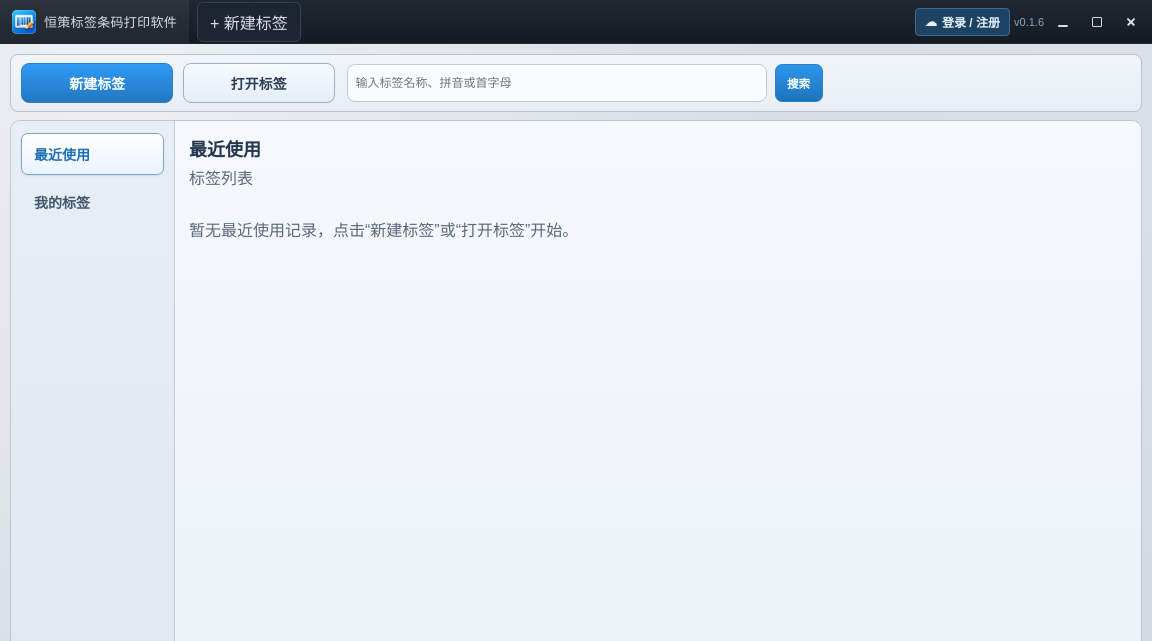
Test: App shell › uses software-level default printer in print modal instead of per-tab printer
Click the button with class "new-tab" at (249, 22), box 197,2 -> 301,42
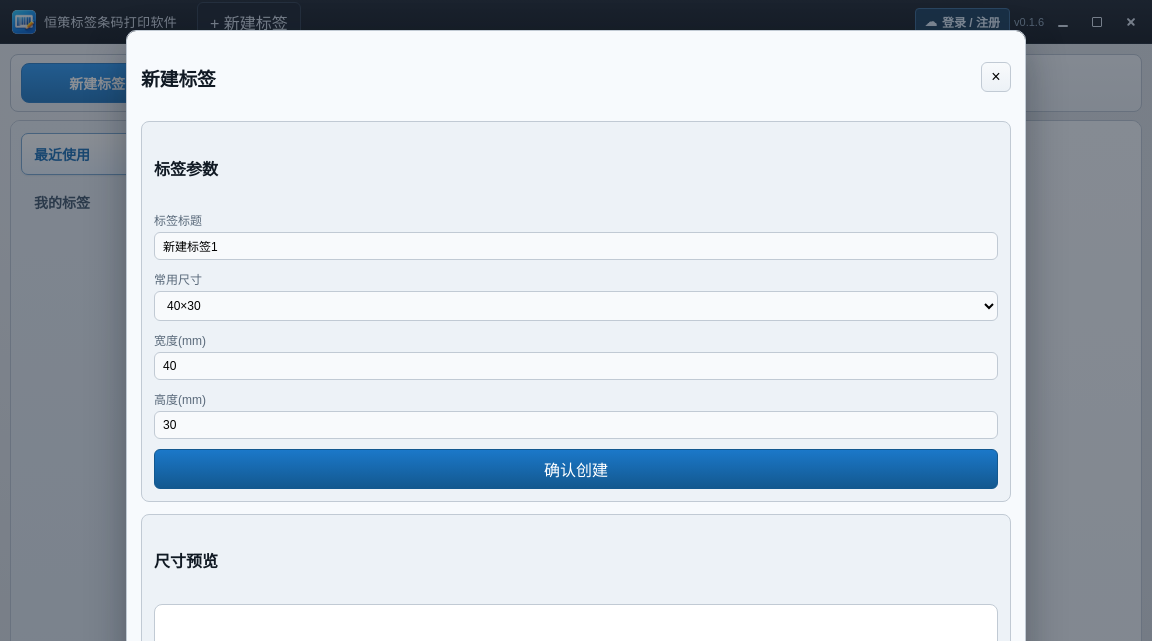
Check: the button "确认创建" is shown
Click the button "确认创建" at (576, 469), box 154,449 -> 998,489
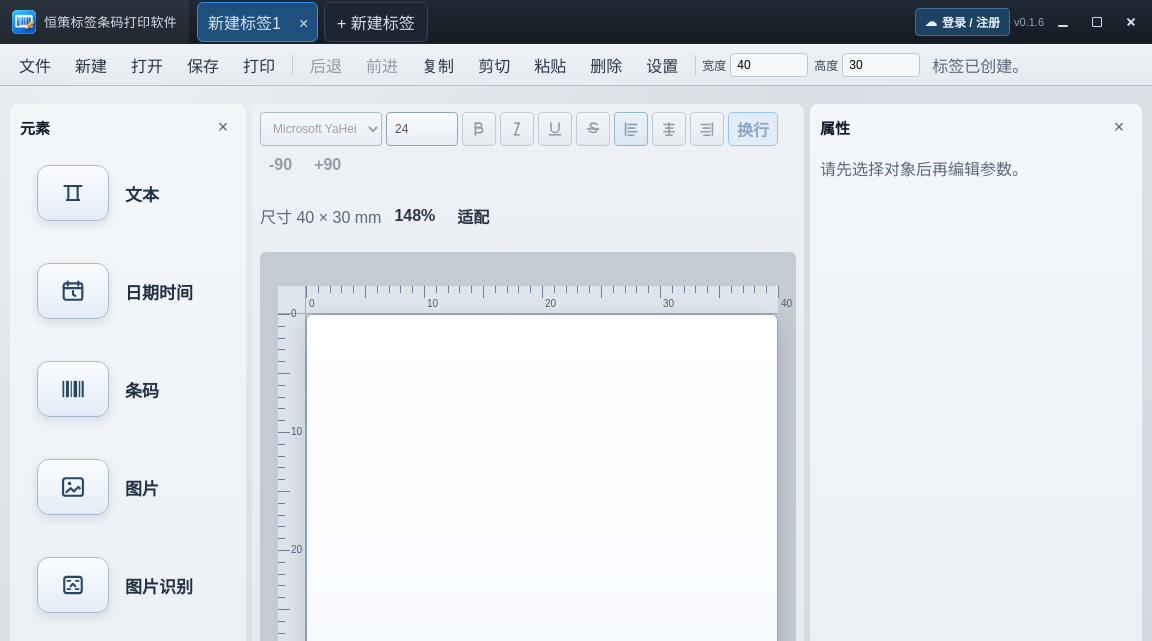
Press p
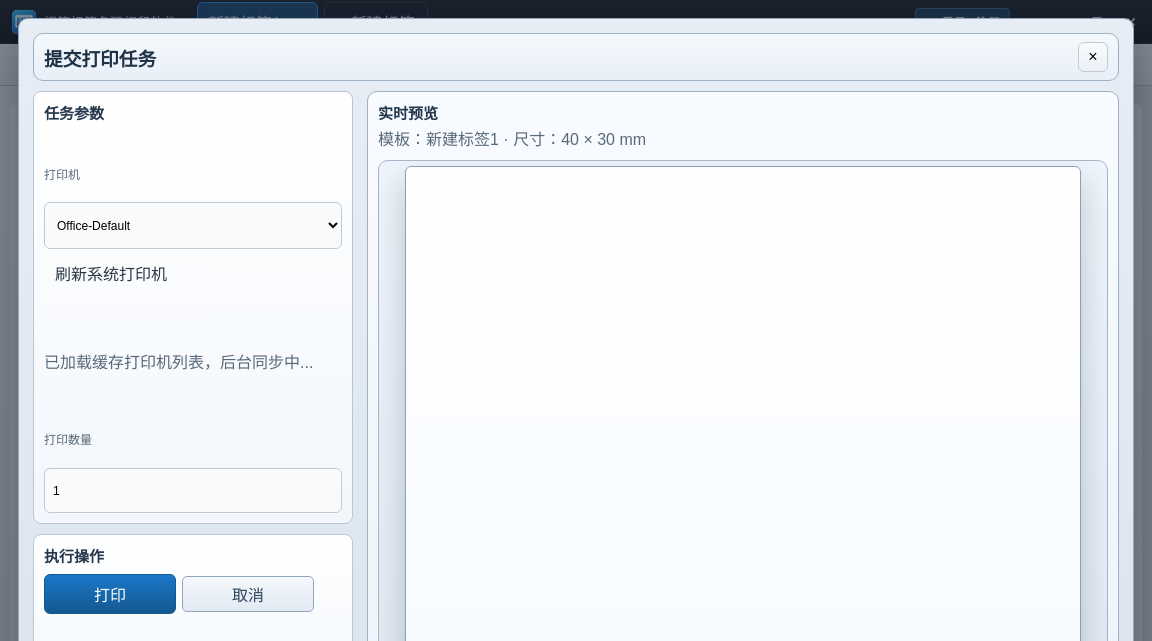
Check: the dropdown labelled "打印机" shows "Office-Default", box 44,202 -> 342,249
Check: the button "取消" is shown
Click the button "取消" at (248, 594), box 182,576 -> 314,612
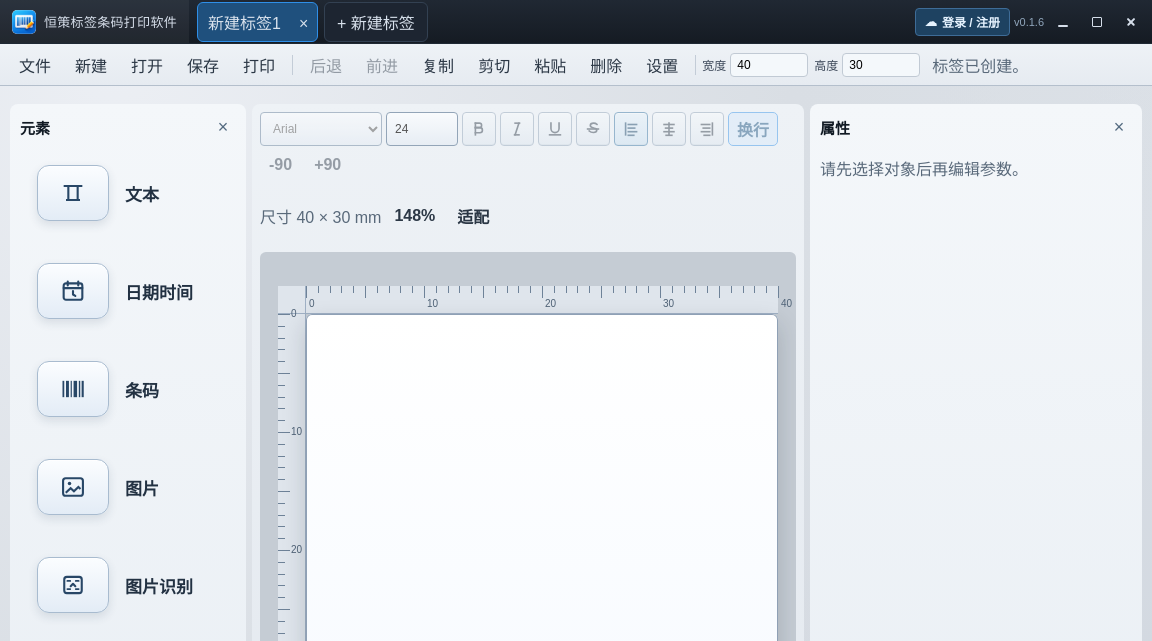
Press p
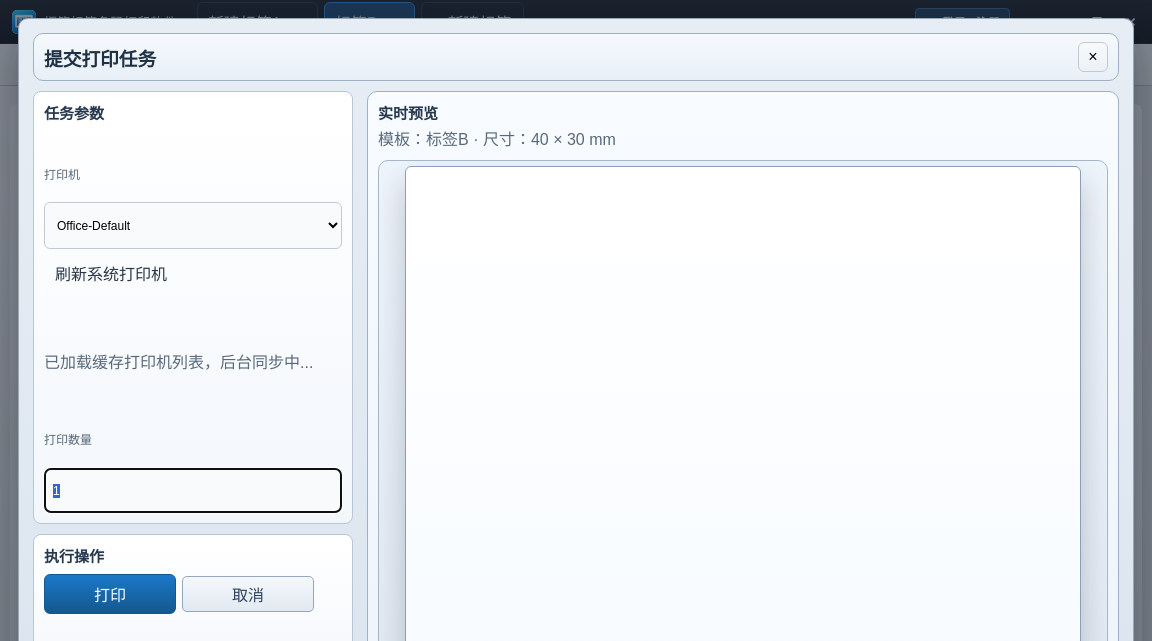
Check: the dropdown labelled "打印机" shows "Office-Default", box 44,202 -> 342,249
